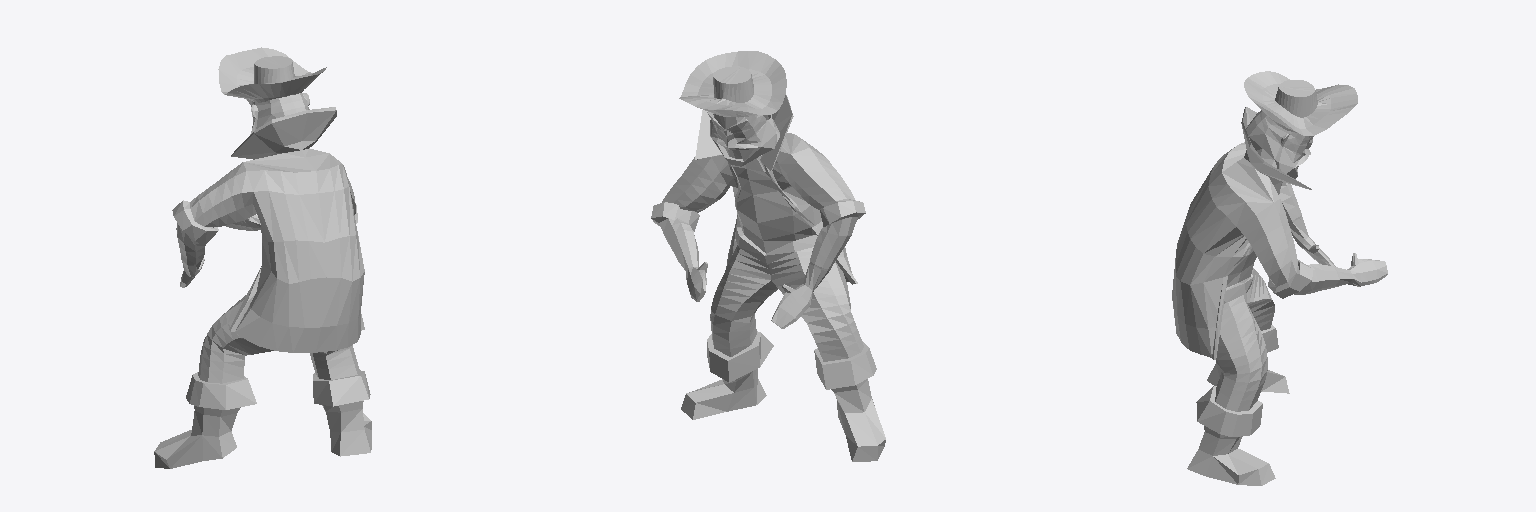
File: pirata_000201.obj
3 renders of one model, left to right at view 1: azimuth 30°, elevation 25°; view 2: azimuth 150°, elevation 25°; view 3: azimuth 270°, elevation 25°, orthographic.
Parts seen in each view (by area): view 1: Pirata_PirataH; view 2: Pirata_PirataH; view 3: Pirata_PirataH.
Boxes of the visible parts, x1,y1,x2,y2 form: Pirata_PirataH: [154, 47, 371, 468]; Pirata_PirataH: [651, 51, 885, 461]; Pirata_PirataH: [1172, 71, 1387, 485].
Bounding box in the file's own units: 5.35 × 8.91 × 4.73.